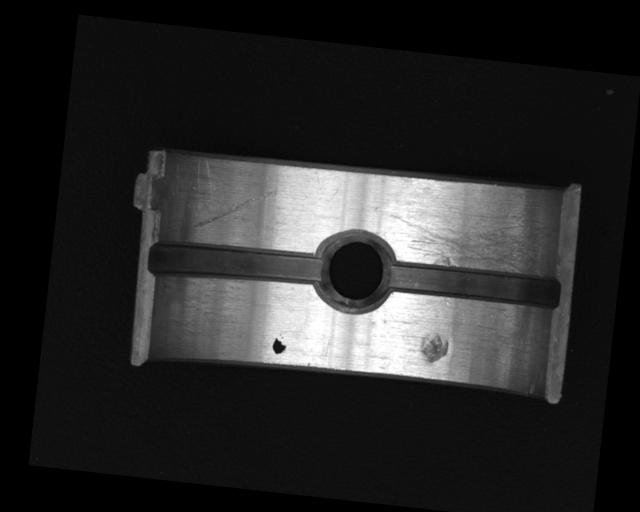blot: (271, 332, 287, 356)
bruise: (415, 331, 449, 365)
gap: (143, 235, 324, 295), (383, 256, 564, 312)
hole: (311, 226, 399, 318)
nick: (192, 179, 279, 238)
scratch: (383, 191, 555, 277)
